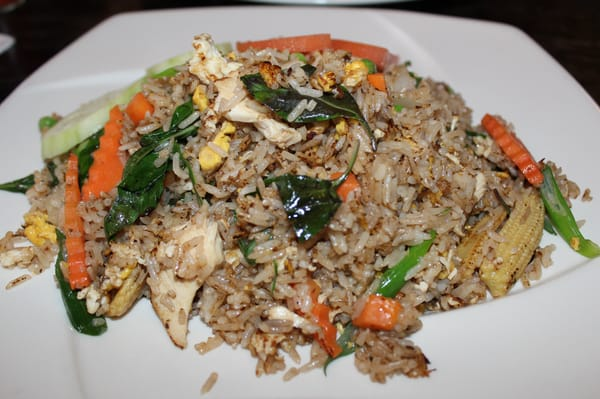sandwich: (5, 29, 595, 385)
